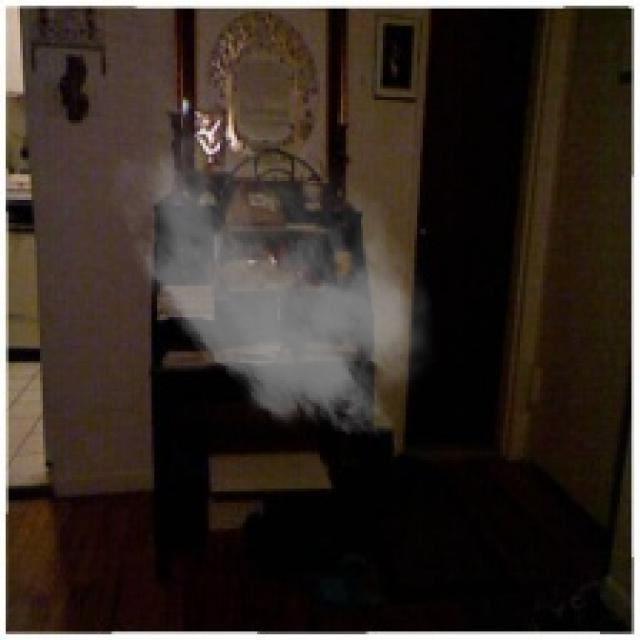smoke: (103, 77, 448, 449)
